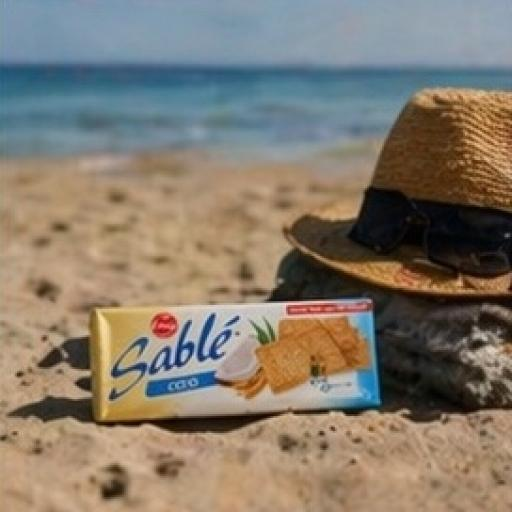sable: (67, 264, 432, 467)
